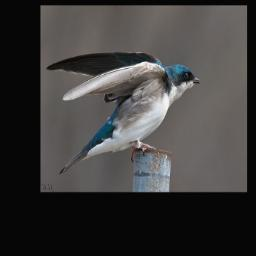Swallow: (45, 49, 202, 177)
